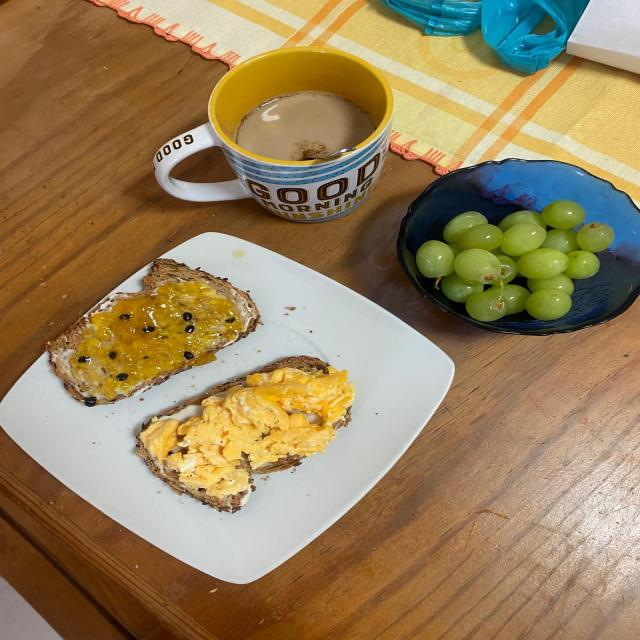bowl: (396, 159, 639, 336)
bread: (47, 259, 260, 406), (137, 436, 239, 512), (141, 376, 249, 430), (250, 355, 334, 374), (241, 455, 305, 475), (333, 409, 351, 429)
coffee: (233, 91, 375, 160)
coffee cup: (153, 47, 393, 223)
grape: (415, 201, 613, 322)
plate: (0, 232, 455, 584)
scrambled eggs: (140, 370, 354, 498)
spoon: (309, 147, 356, 159)
